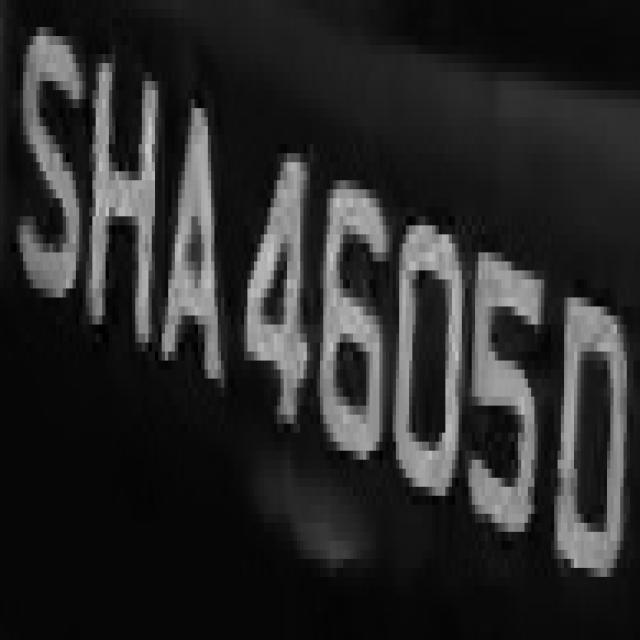0: (393, 189, 465, 532)
4: (224, 108, 314, 433)
5: (462, 189, 548, 559)
6: (307, 144, 389, 496)
A: (168, 81, 228, 397)
D: (551, 243, 630, 595)
H: (76, 36, 165, 379)
S: (17, 36, 82, 307)
